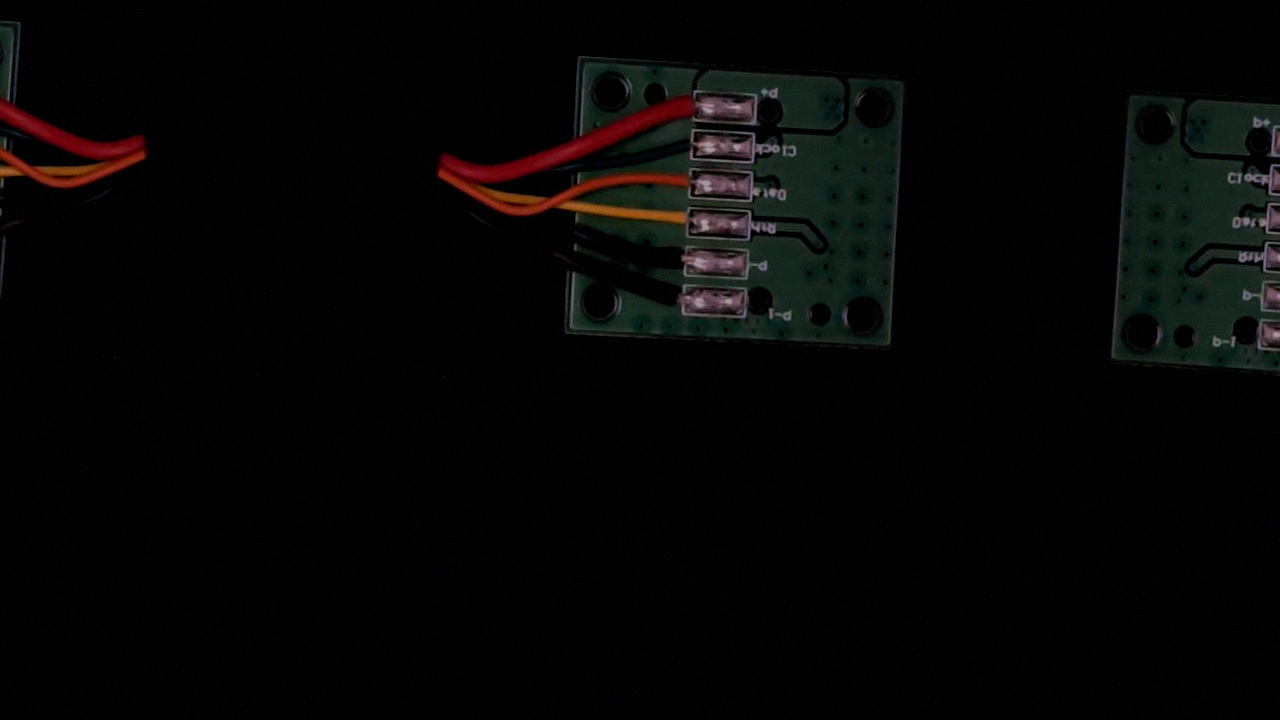Black: (635, 243, 704, 277)
Black1: (640, 283, 702, 316)
Green: (647, 125, 710, 159)
Orange: (644, 165, 708, 197)
Red: (638, 87, 708, 123)
Yellow: (636, 205, 707, 237)
